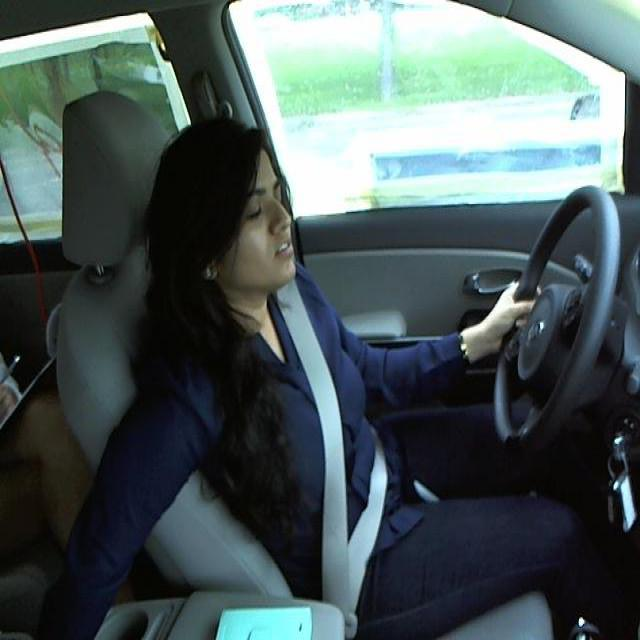seatbelt: (272, 287, 384, 609)
